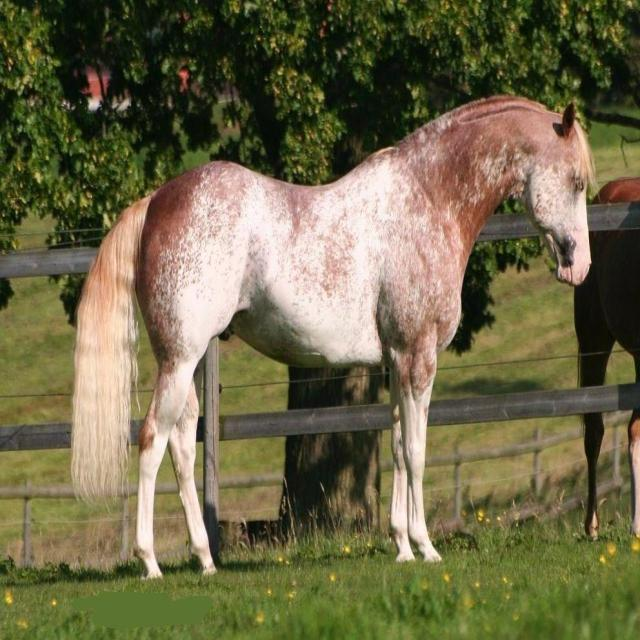horse: (69, 93, 597, 580), (573, 176, 639, 542)
